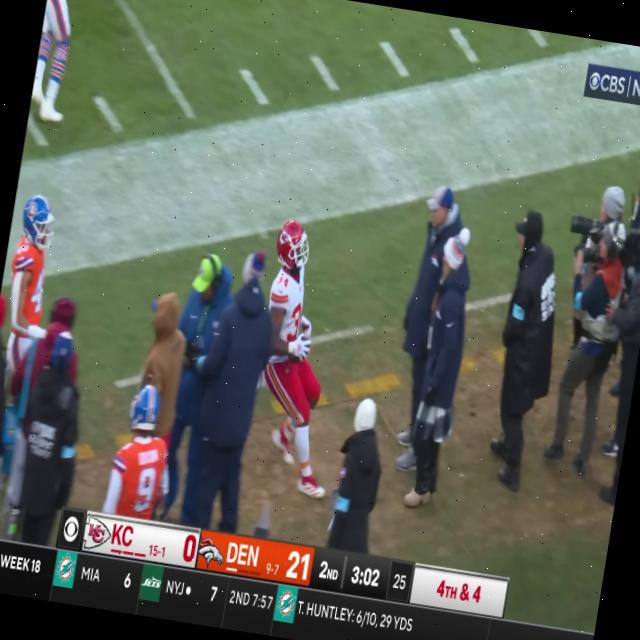Player: (235, 205, 361, 508), (0, 184, 61, 368), (105, 384, 181, 521)
